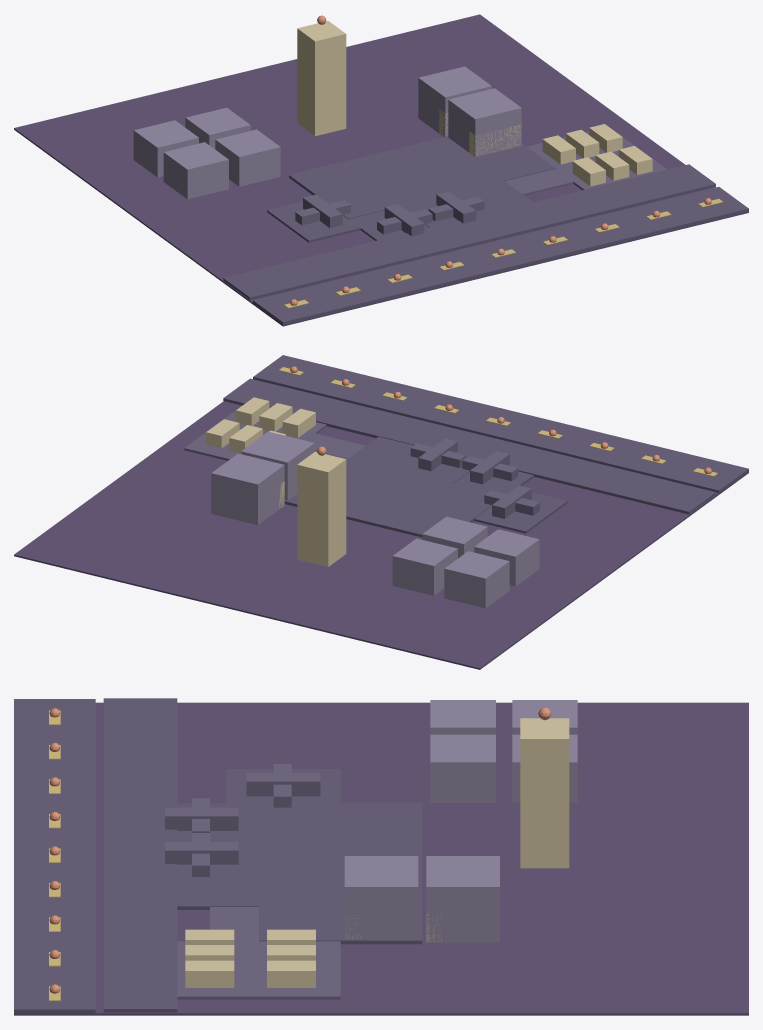
The model's file is stage_18.glb.
3 views of the same model, one above another, from view 1: azimuth 30°, elevation 25°; view 2: azimuth 150°, elevation 25°; view 3: azimuth 270°, elevation 25° (orthographic). The views are drawn at different scales.
Parts seen in each view (by area): view 1: geometry_0; view 2: geometry_0; view 3: geometry_0.
Boxes of the visible parts, box(x1,y1,x2,y2) form: geometry_0: box(14, 14, 748, 326); geometry_0: box(14, 355, 748, 669); geometry_0: box(14, 698, 748, 1015).
Bounding box in the file's own units: 9 × 2.06 × 9.
